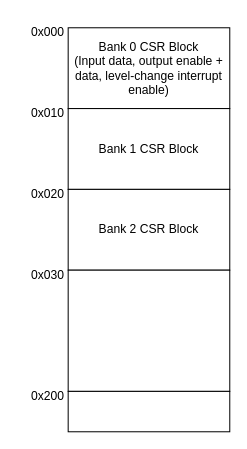
Image size: 247x449. Some labels were removed from this diagram. The box of each missing label's shape, as (x1, y1, x2, y2) in pixels:
Bank 3 to 31 CSR Block: (67, 269, 230, 391)
Interrupt status register: (67, 390, 230, 432)
